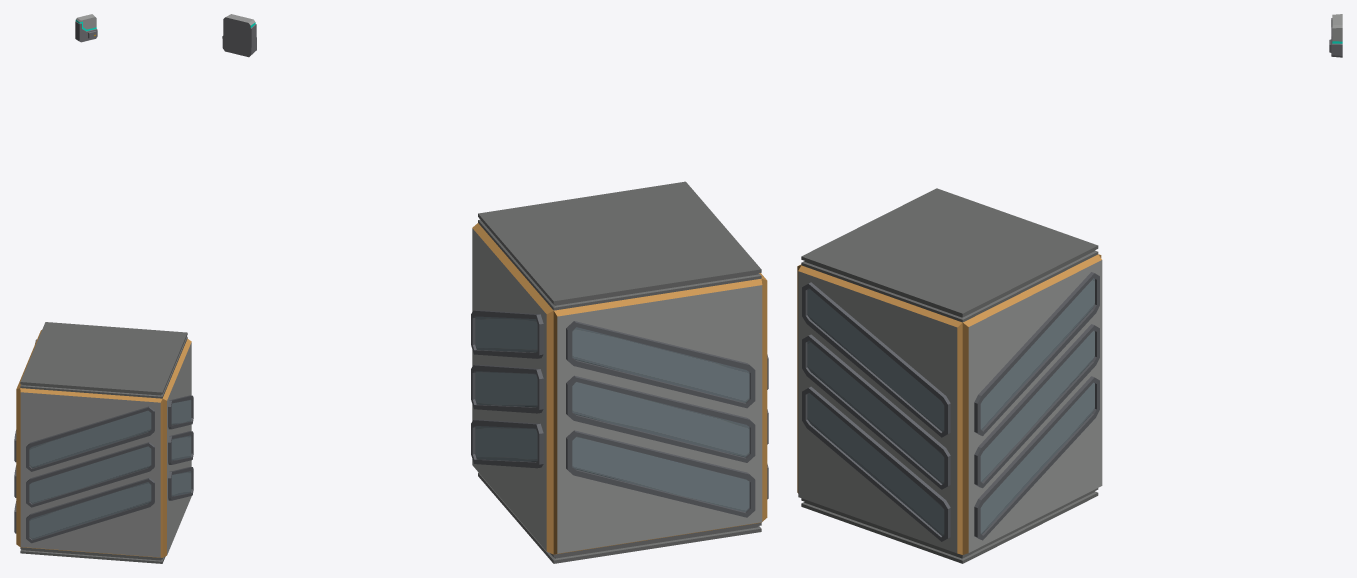
The model's file is SM_Bld_Section_Window_04 (3).fbx.
3 views of the same model, side by side, from view 1: azimuth 30°, elevation 25°; view 2: azimuth 150°, elevation 25°; view 3: azimuth 270°, elevation 25° (orthographic). The views are drawn at different scales.
Parts seen in each view (by area): view 1: SM_Bld_Section_Window_04 (3), SM_Prop_WallAttach_Electronics_04; view 2: SM_Bld_Section_Window_04 (3), SM_Prop_WallAttach_Electronics_04; view 3: SM_Bld_Section_Window_04 (3).
Part boxes in pixels (x1,y1,x2,y2): SM_Bld_Section_Window_04 (3): (14,322,193,563); SM_Prop_WallAttach_Electronics_04: (75,14,97,42); SM_Bld_Section_Window_04 (3): (471,181,768,563); SM_Prop_WallAttach_Electronics_04: (222,14,256,57); SM_Bld_Section_Window_04 (3): (797,188,1102,563).
Bounding box in the file's own units: 5.56 × 9.54 × 8.36.
Materials: 2 (2 with a texture image).
